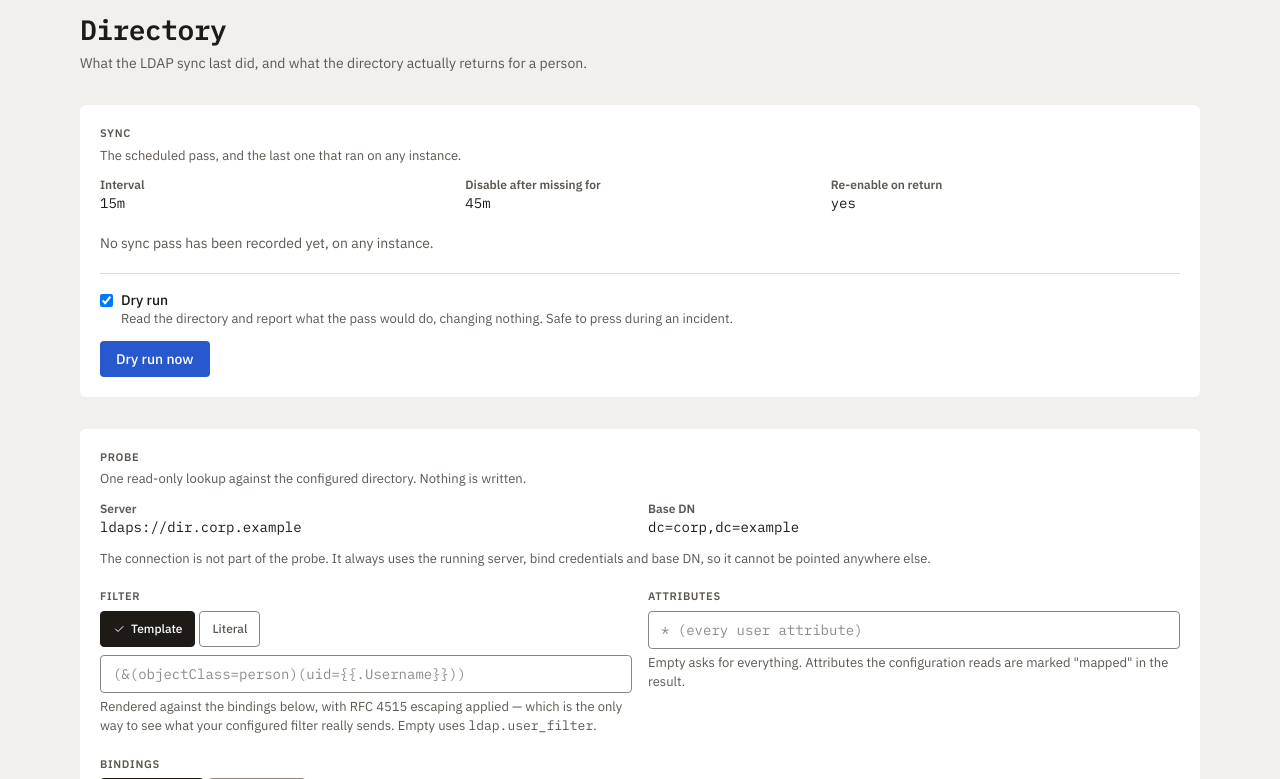
Scenario: Directory admin page › the sync panel › should warn before a live pass that it can disable accounts
Step 1. Click the checkbox with test id "ldap-dry-run" → (106, 300), box left=100, top=294, right=113, bottom=307
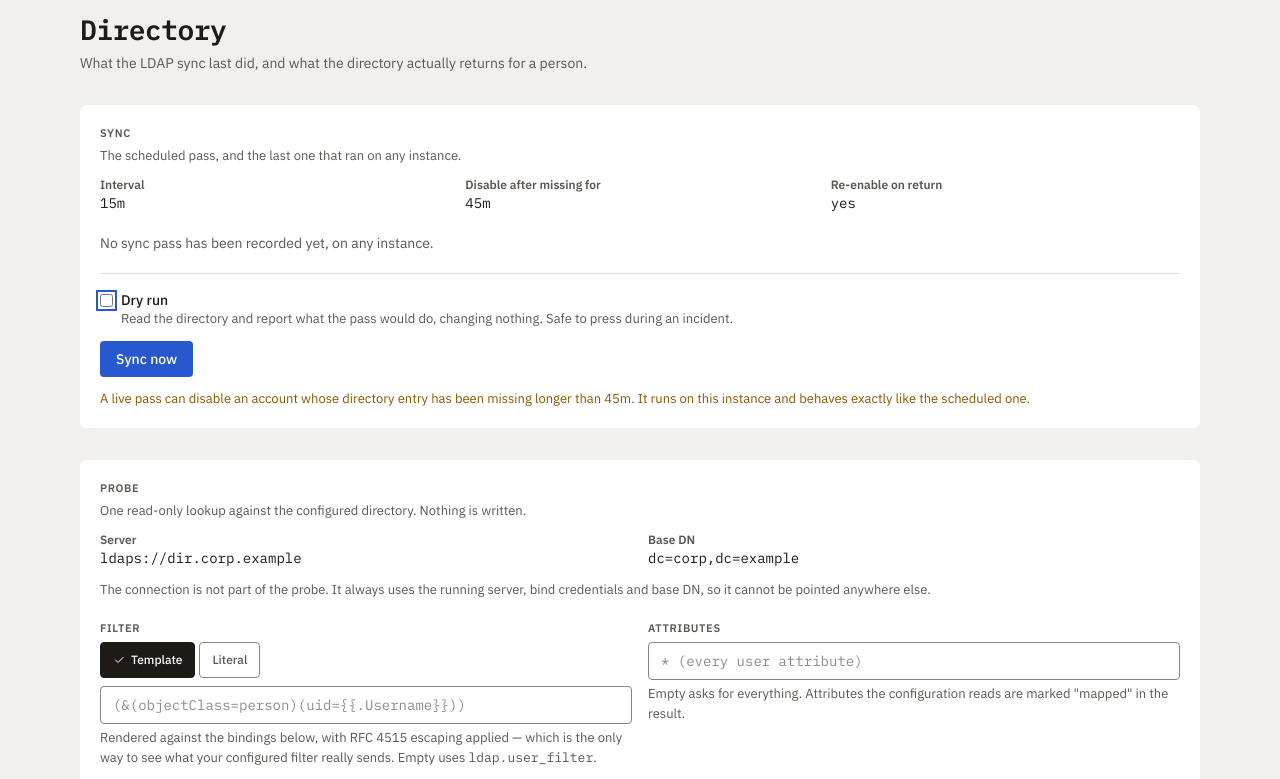
expect the text with test id "ldap-live-warning" shows "disable an account": met, box left=100, top=390, right=1030, bottom=407
